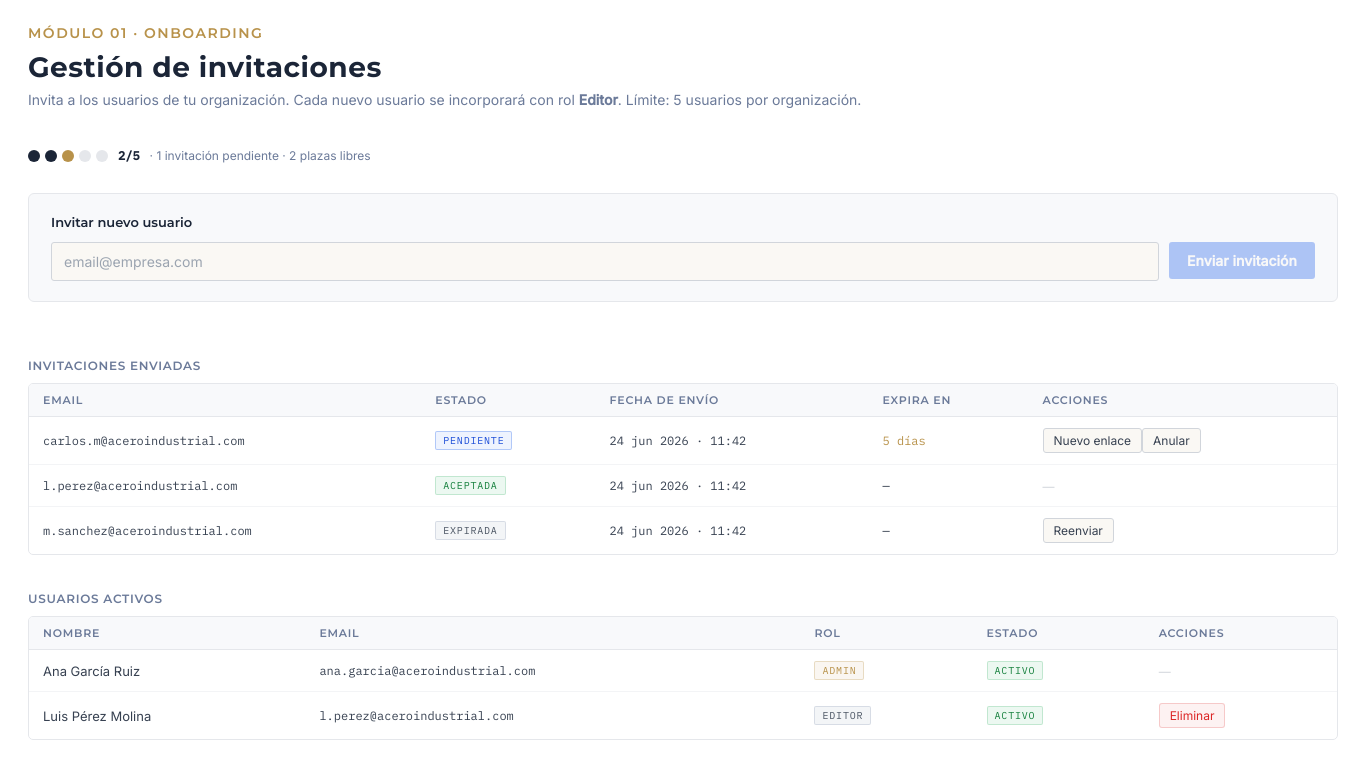
Test: INVT-01 · Invitations · invitar › enviar invita, enseña el ENLACE (sin afirmar ningún correo), vacía el campo y recarga las listas
This screenshot has width=1366, height=768.
expect the heading "Gestión de invitaciones" is shown: met, box [28,50,382,84]
In the field named "Email del nuevo usuario": [605, 262] box [51,242,1159,281], type "nuevo@empresa.test"
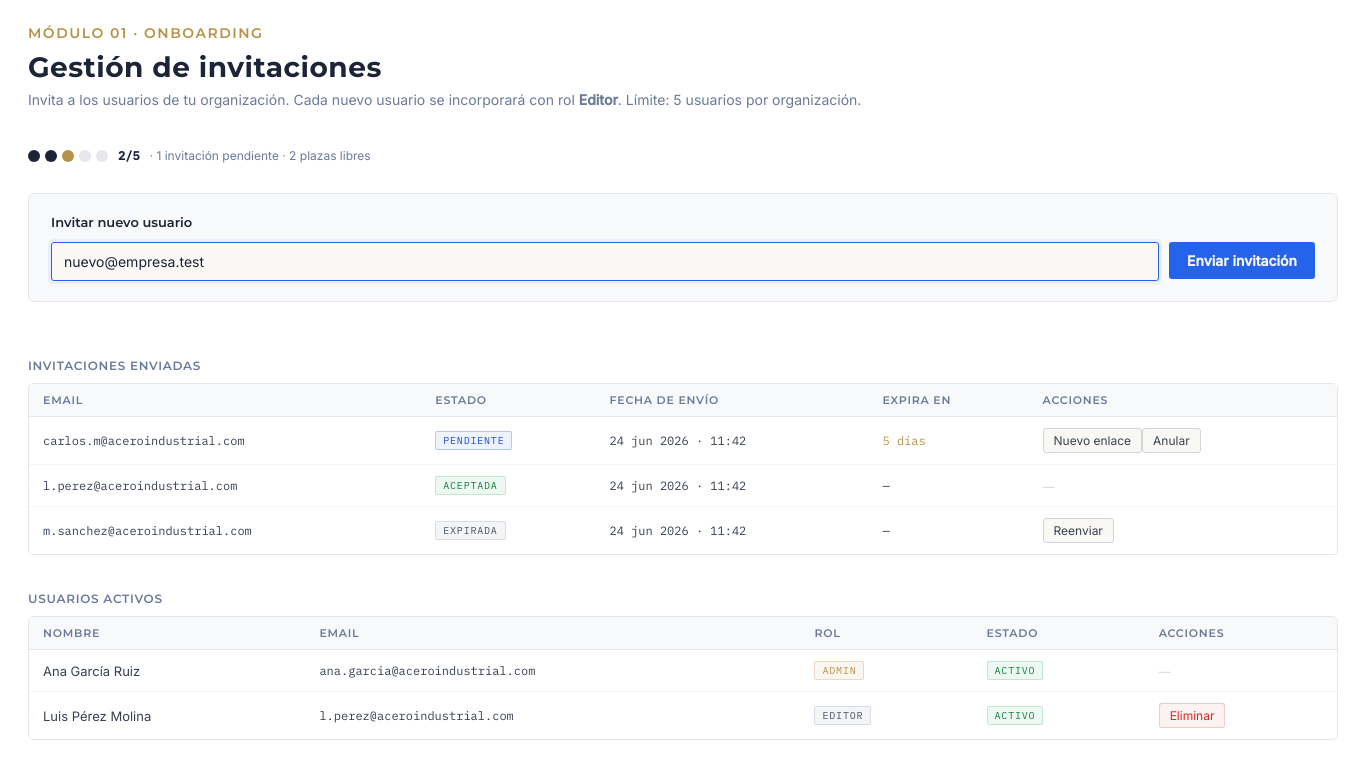
expect the button "Enviar invitación" is enabled: met
Click the button "Enviar invitación": [1242, 260] box [1169,242,1315,279]
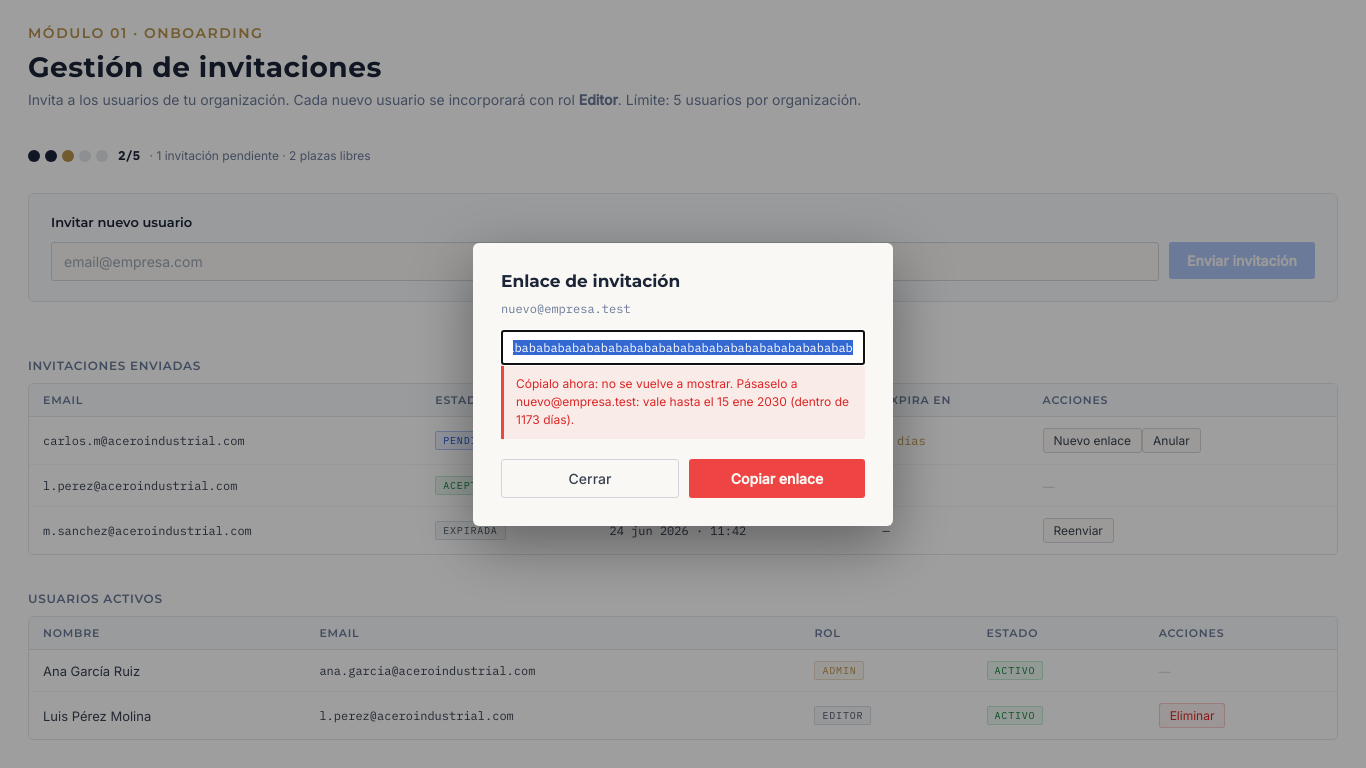
expect the dialog "Enlace de invitación" shows "no se vuelve a mostrar": met, box [516,376,733,390]
expect the field named "Email del nuevo usuario" is empty: met, box [51,242,1159,281]
